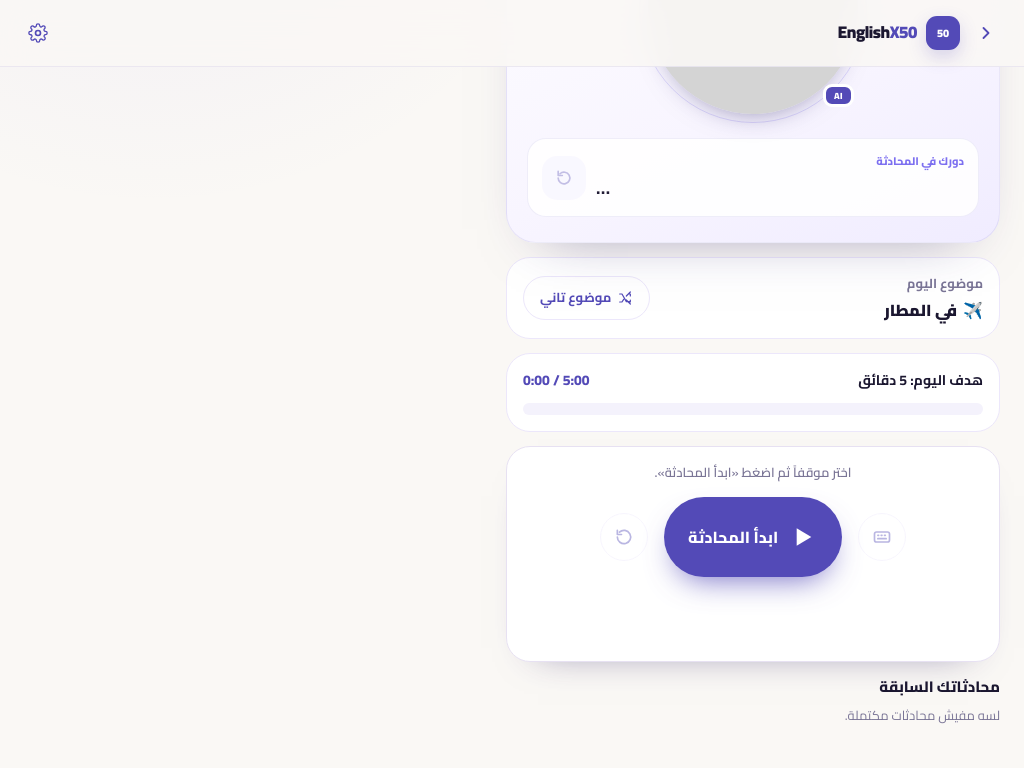
Scenario: SpeakScreen › starts with the topic Emma assigned, and hides the topic card once running
(page scrolled)
Click the button "ابدأ المحادثة": click(753, 536) [664,496,842,576]
(page scrolled)
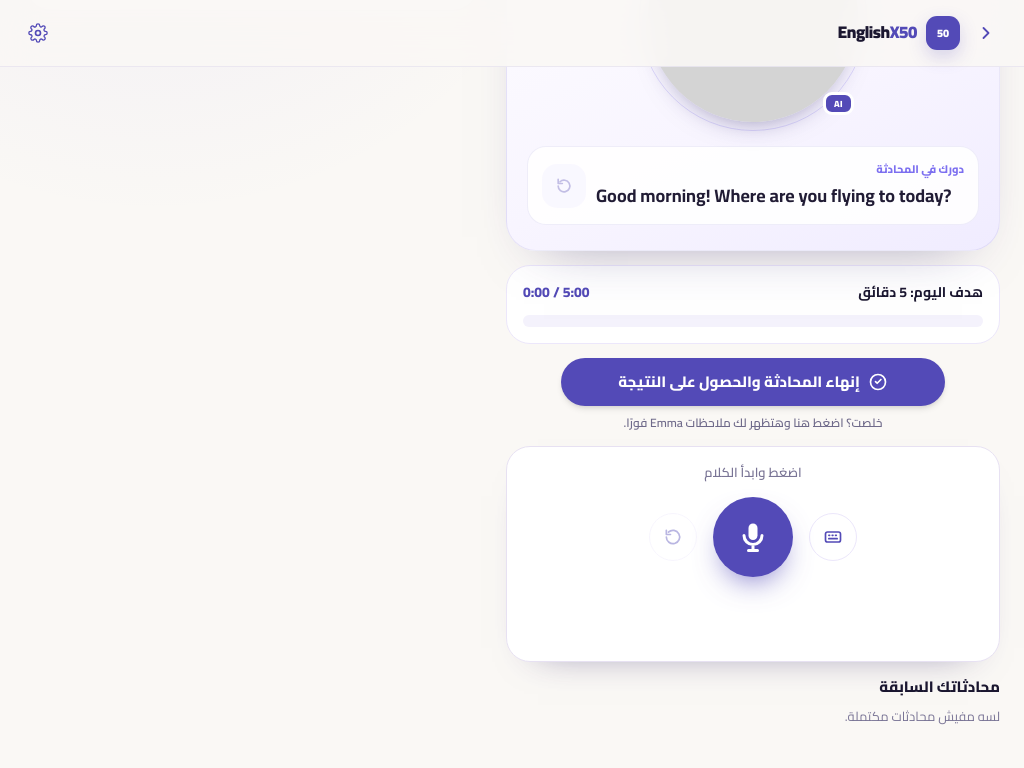
Check: the button named "ابدأ التسجيل" is shown, box [713,497,793,577]
Check: the text "موضوع اليوم" is gone
Check: the button "موضوع تاني" is gone
